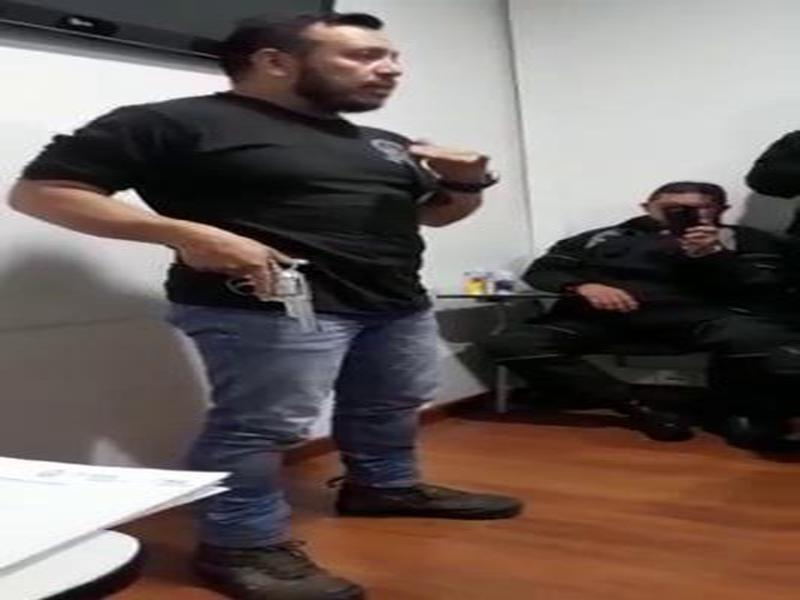Revolver: (221, 232, 339, 354)
